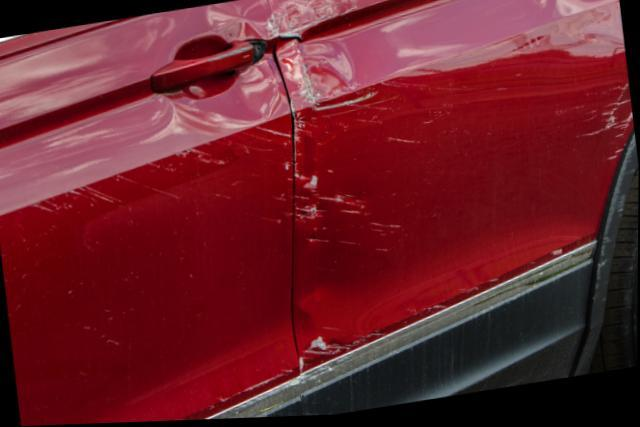dent: (181, 0, 287, 133), (272, 0, 360, 110)
scratch: (299, 251, 567, 377), (0, 128, 292, 226), (292, 90, 447, 266), (554, 62, 634, 165), (164, 368, 292, 422)
